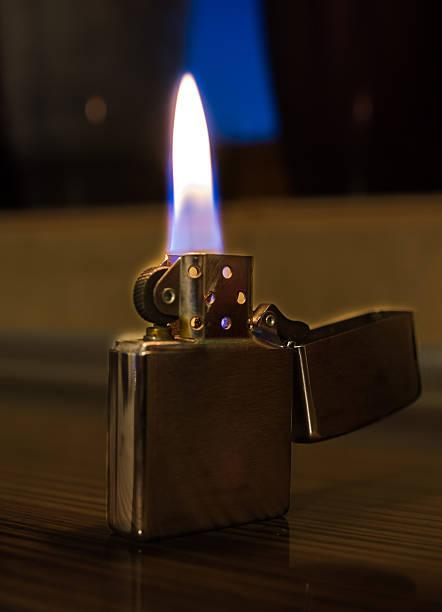Fire: (164, 70, 226, 253)
